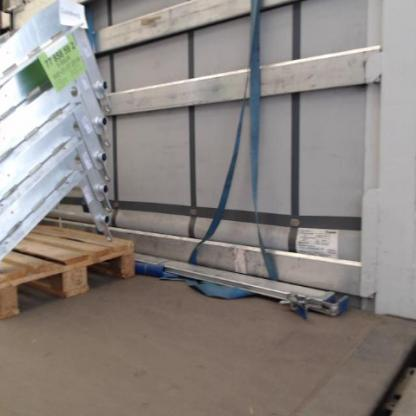pallet: (1, 218, 137, 320)
